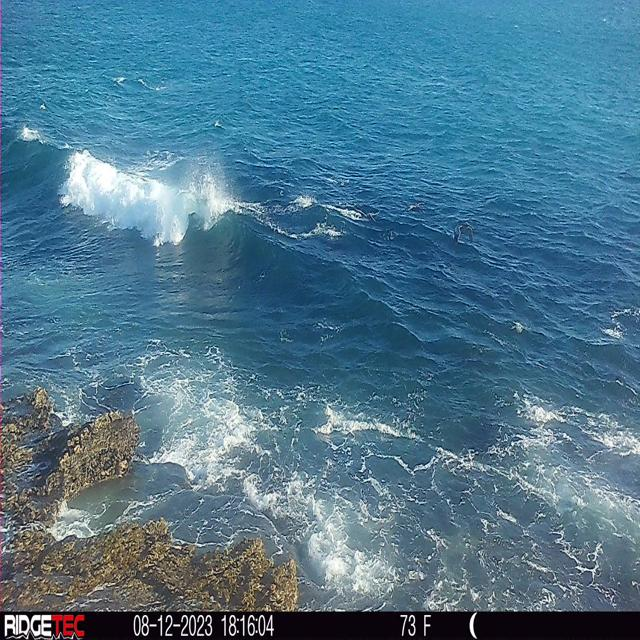bird: (453, 220, 474, 245)
